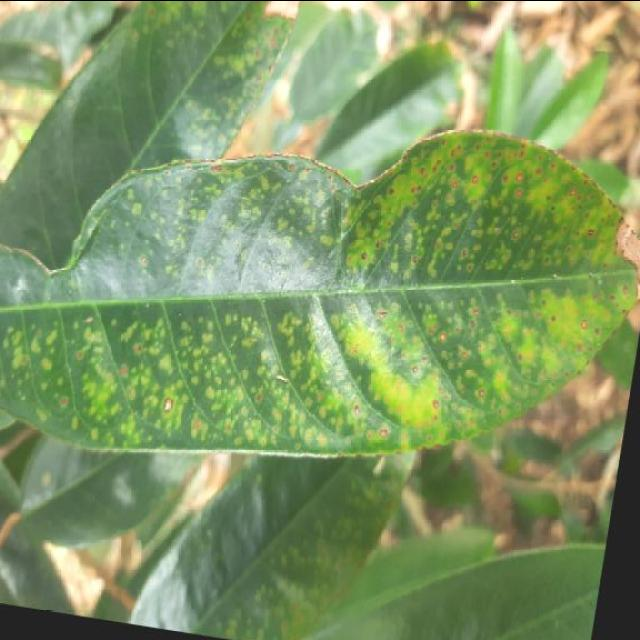Leaf Spot: (0, 29, 640, 540)
